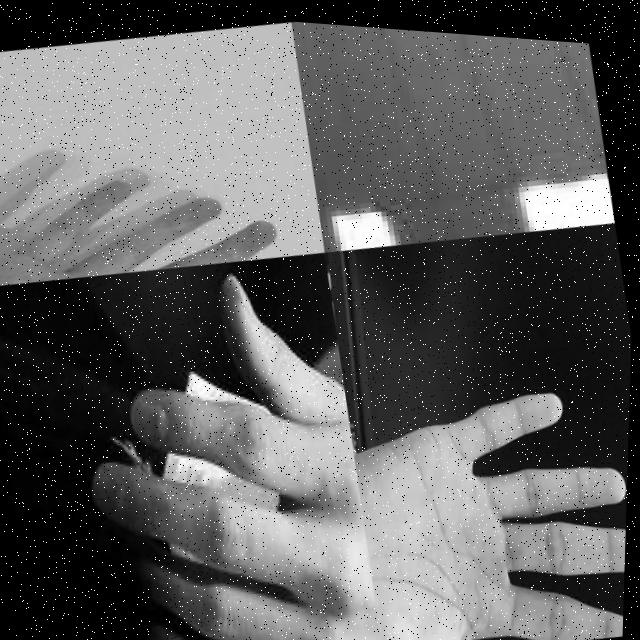hand: (53, 240, 396, 640), (343, 355, 632, 640), (0, 79, 303, 305)
